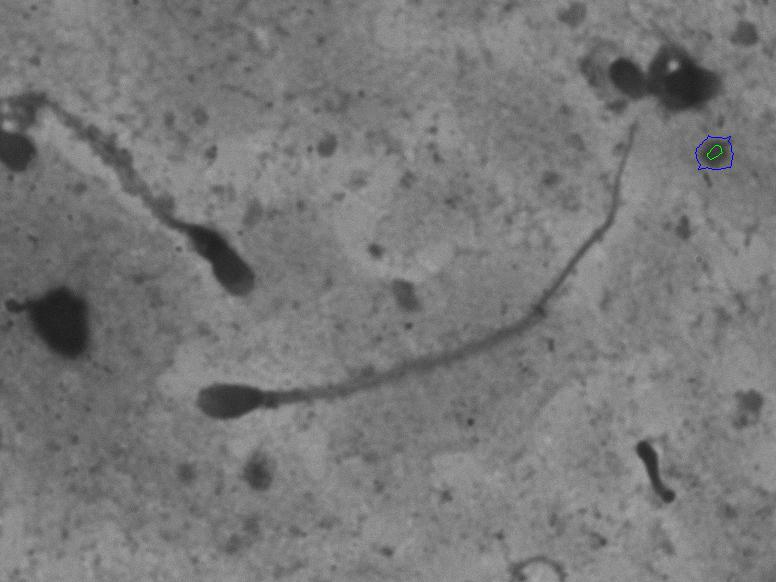Abnormal: (190, 304, 537, 442), (30, 137, 311, 302)
